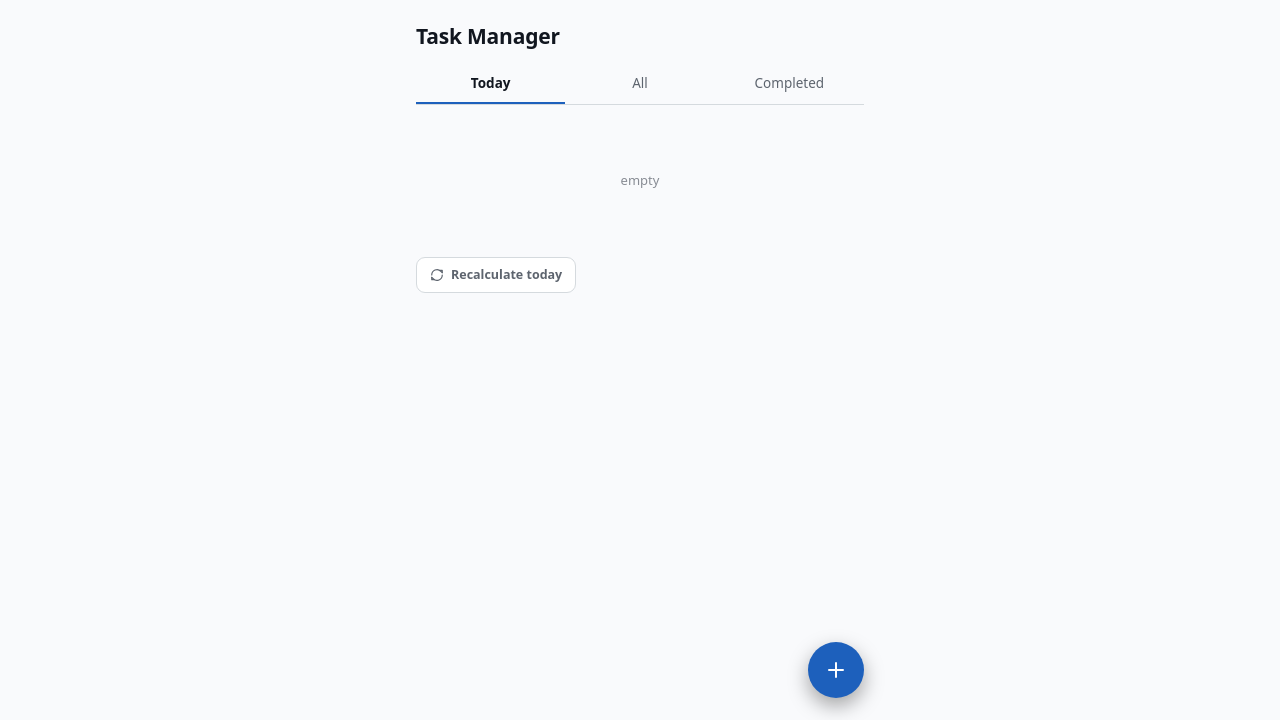
Test: creating a task (8.1) › adds a fully filled task to the All list on submit
Expected: the button named "Add a task" is shown, [808,642,864,698]
Click the button "All": click(640, 85) [565,65,715,104]
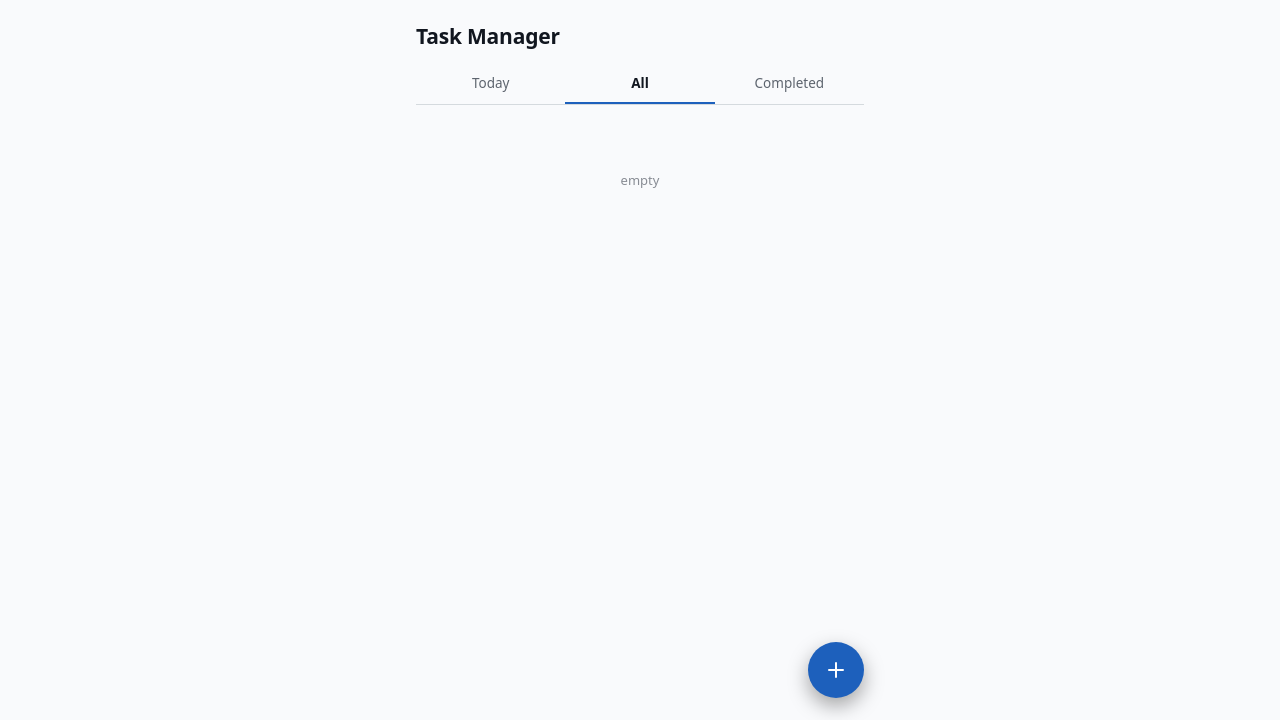
Click the button named "Add a task": click(836, 670) [808,642,864,698]
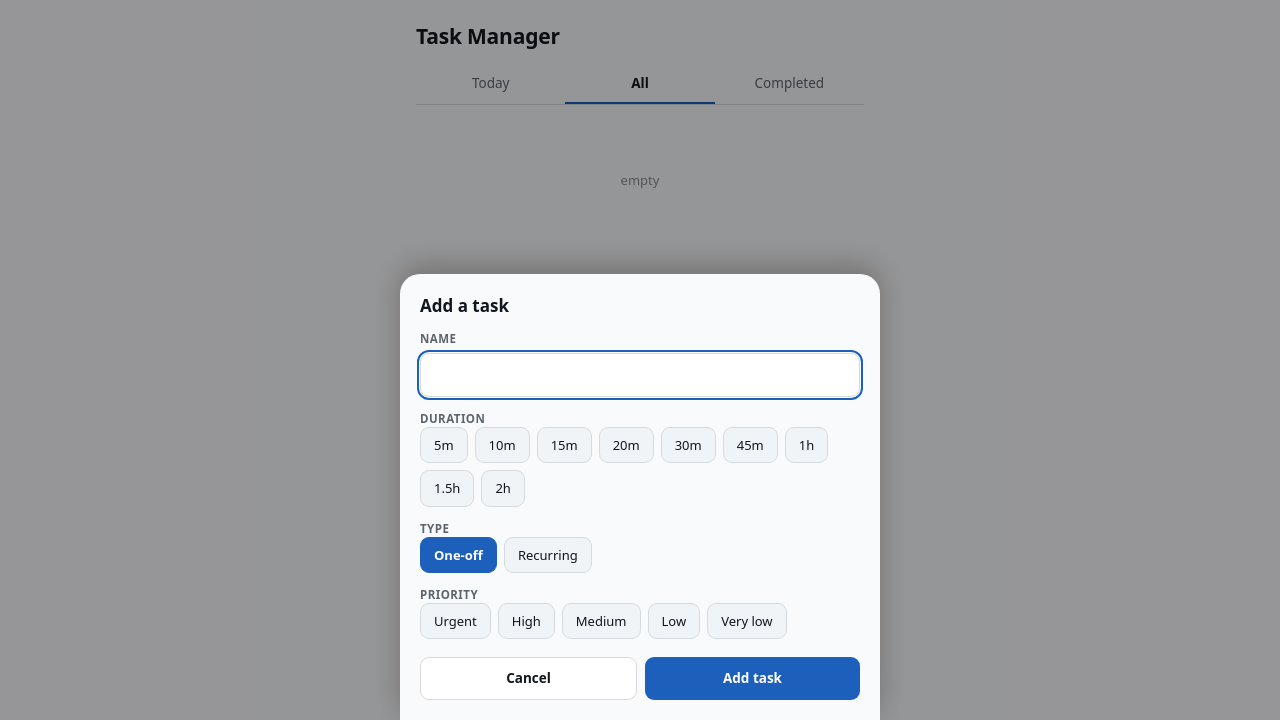
In the field labelled "Name": (640, 375) [420,354,860,397], type "Write the report"
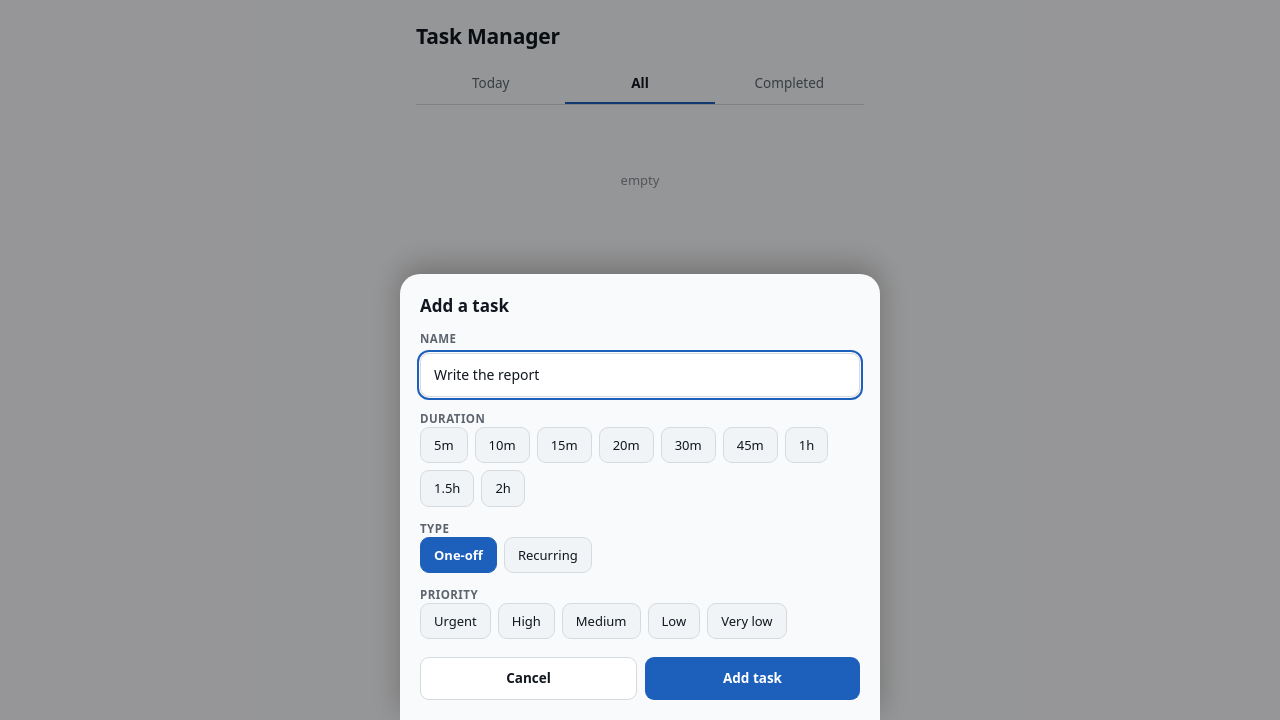
Click the button "30m": click(688, 445) [661,427,716,463]
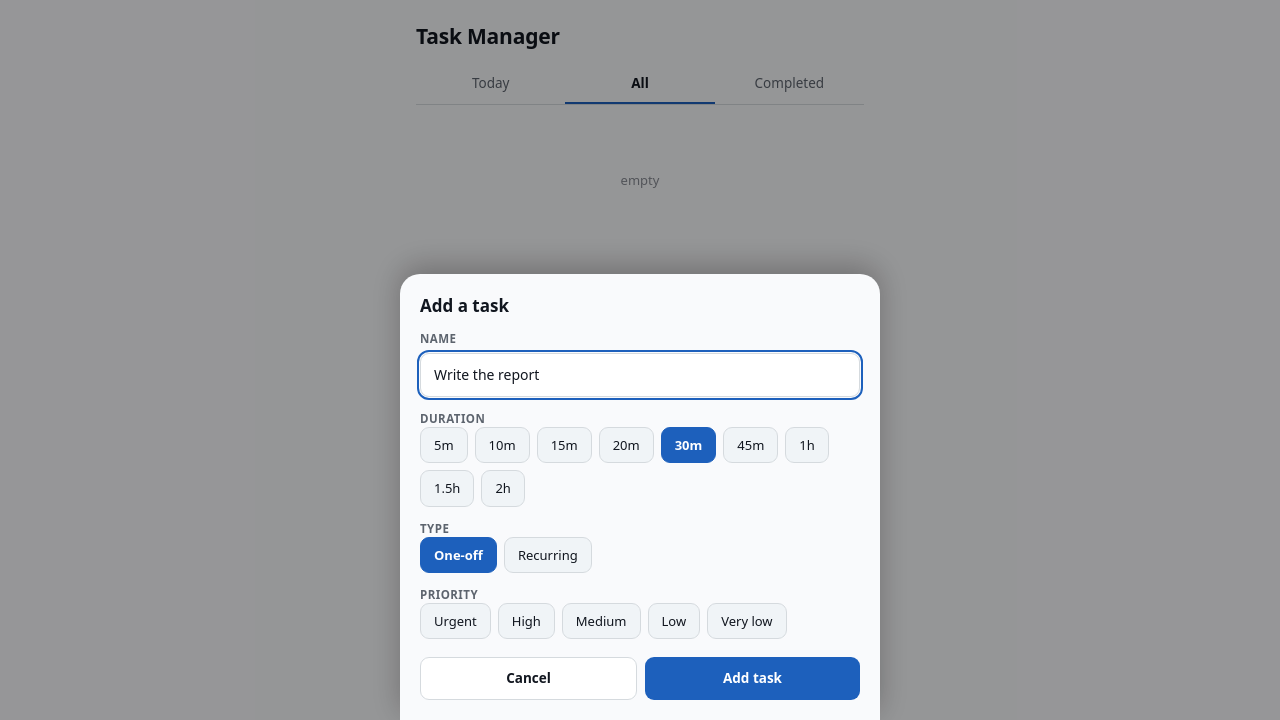
Click the button "High": click(526, 621) [498,603,555,639]
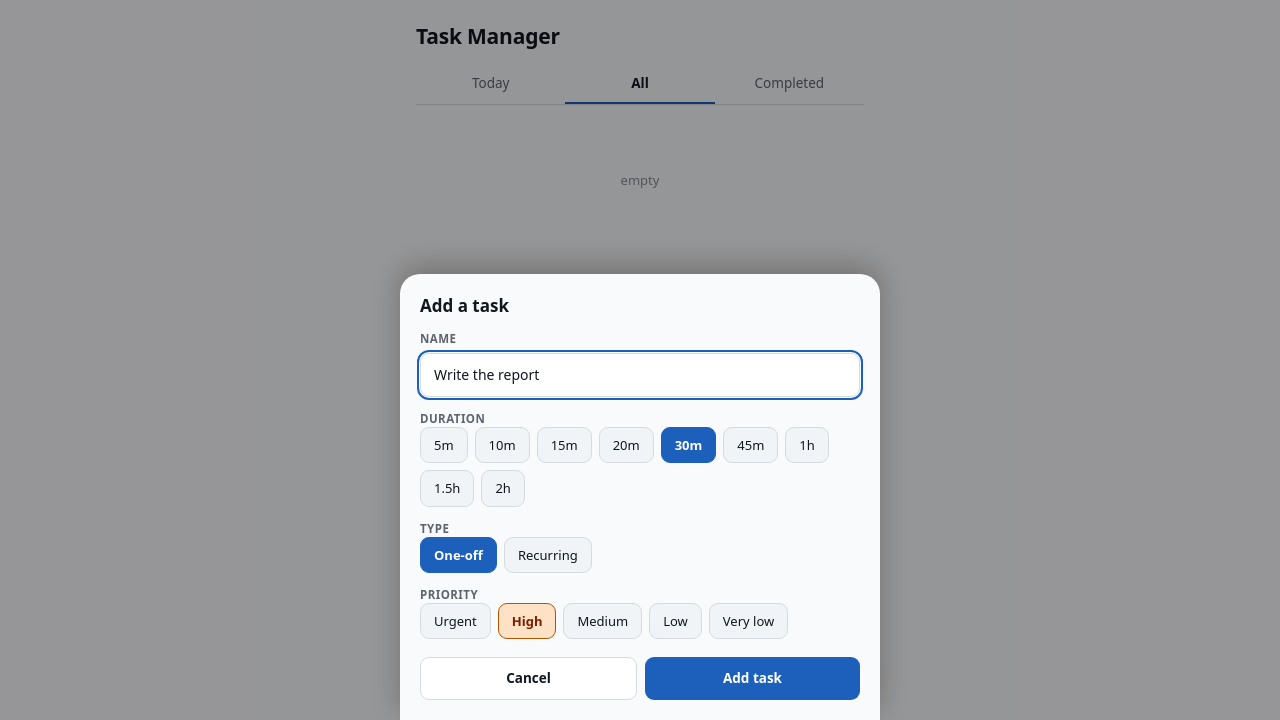
Click the button "Add task": click(752, 679) [645,657,860,700]
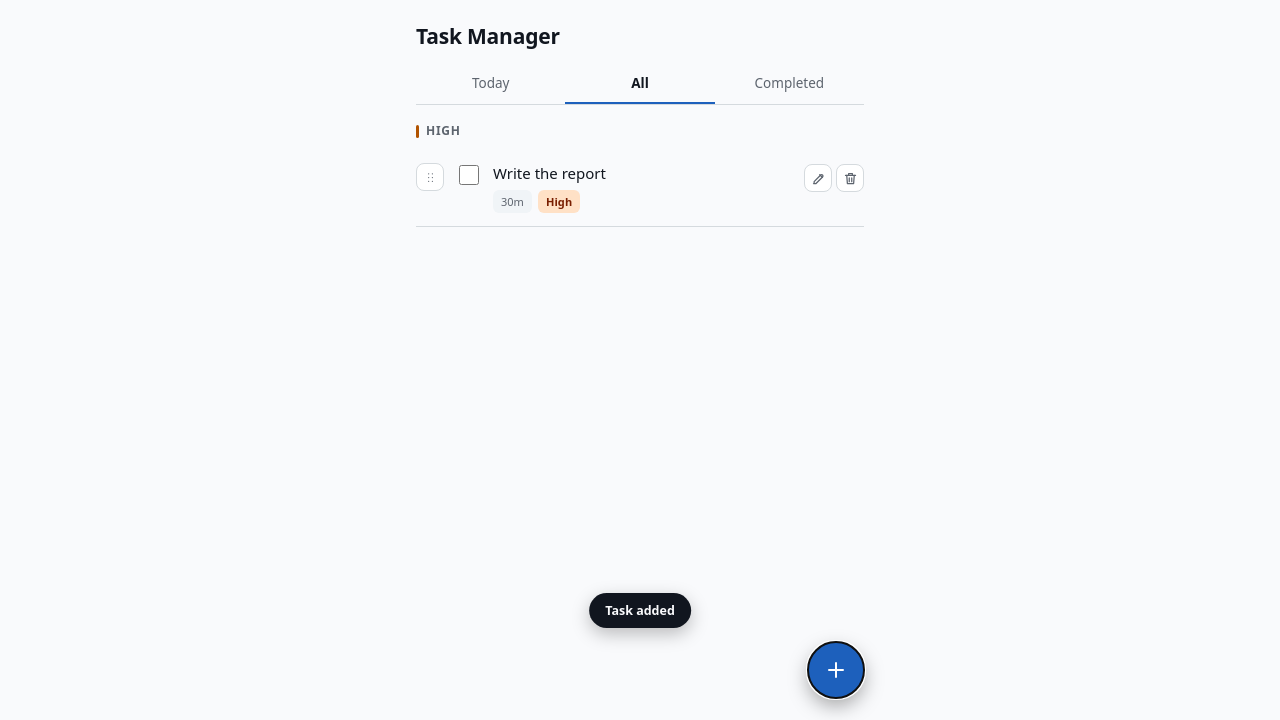
Result: the text "Write the report" is shown at [493,163,606,183]
